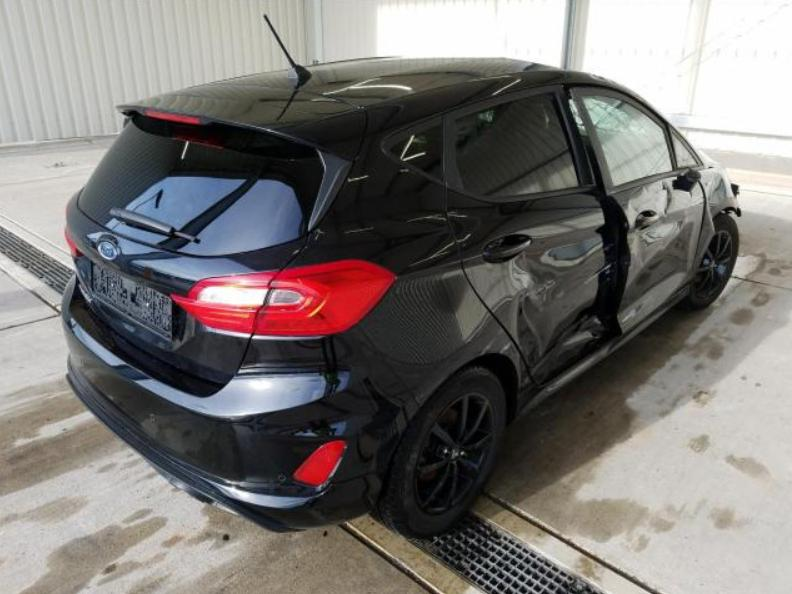Back-bumper: (62, 271, 419, 533)
Back-door: (443, 85, 622, 391)
Back-wheel: (376, 363, 505, 538), (690, 213, 740, 307)
Back-window: (455, 93, 580, 196), (390, 124, 443, 182)
Back-windshield: (77, 113, 325, 257)
Fender: (692, 166, 741, 279)
Front-door: (569, 86, 705, 335)
Front-window: (582, 96, 673, 186), (673, 132, 698, 168)
Hood: (698, 151, 724, 168)
License-plate: (90, 262, 173, 341)
Mirror: (672, 167, 702, 198)
Quarter-panel: (283, 223, 541, 413)
Rocker-panel: (515, 282, 693, 421)
Roof: (180, 56, 607, 143)
Tail-light: (169, 258, 399, 337), (64, 227, 78, 256)
Trunk: (64, 188, 312, 385), (115, 86, 367, 232)
